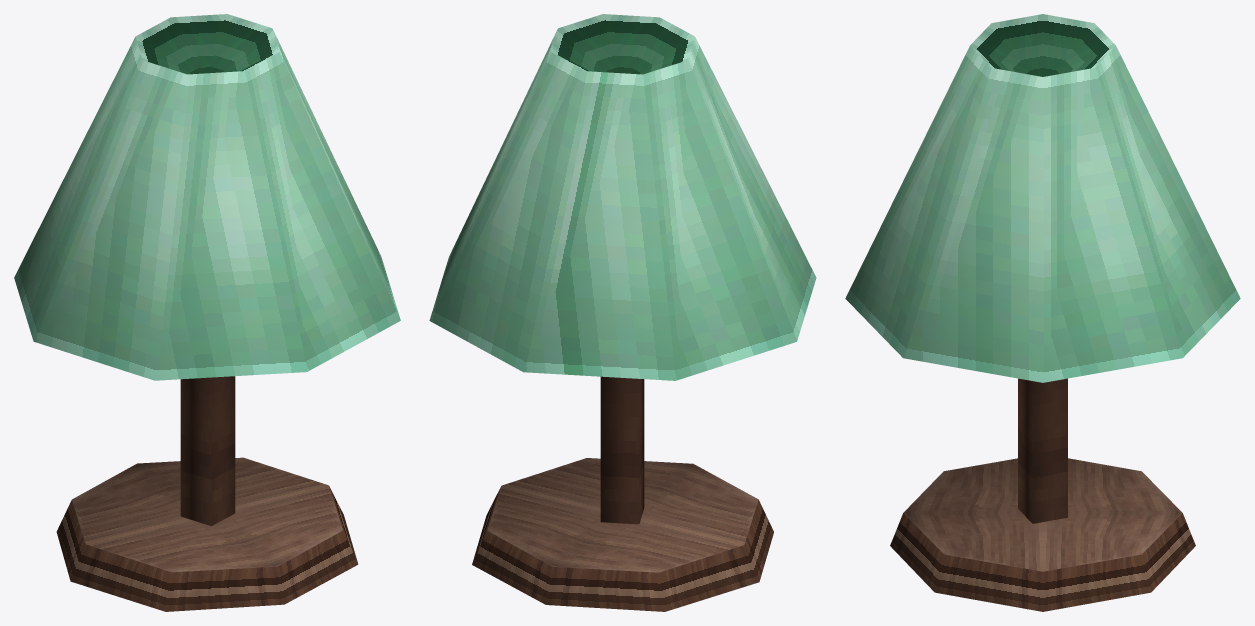
Rendered from a_SCstand02.glb.
3 renders of one model, left to right at view 1: azimuth 30°, elevation 25°; view 2: azimuth 150°, elevation 25°; view 3: azimuth 270°, elevation 25°, orthographic.
Parts seen in each view (by area): view 1: a_SCstand02; view 2: a_SCstand02; view 3: a_SCstand02.
Part boxes in pixels (left/top/right/bottom): a_SCstand02: left=14, top=14, right=400, bottom=611; a_SCstand02: left=429, top=14, right=816, bottom=611; a_SCstand02: left=845, top=14, right=1240, bottom=611.
Bounding box in the file's own units: 0.2221 × 0.3076 × 0.2202.
Materials: 1 (1 with a texture image).
